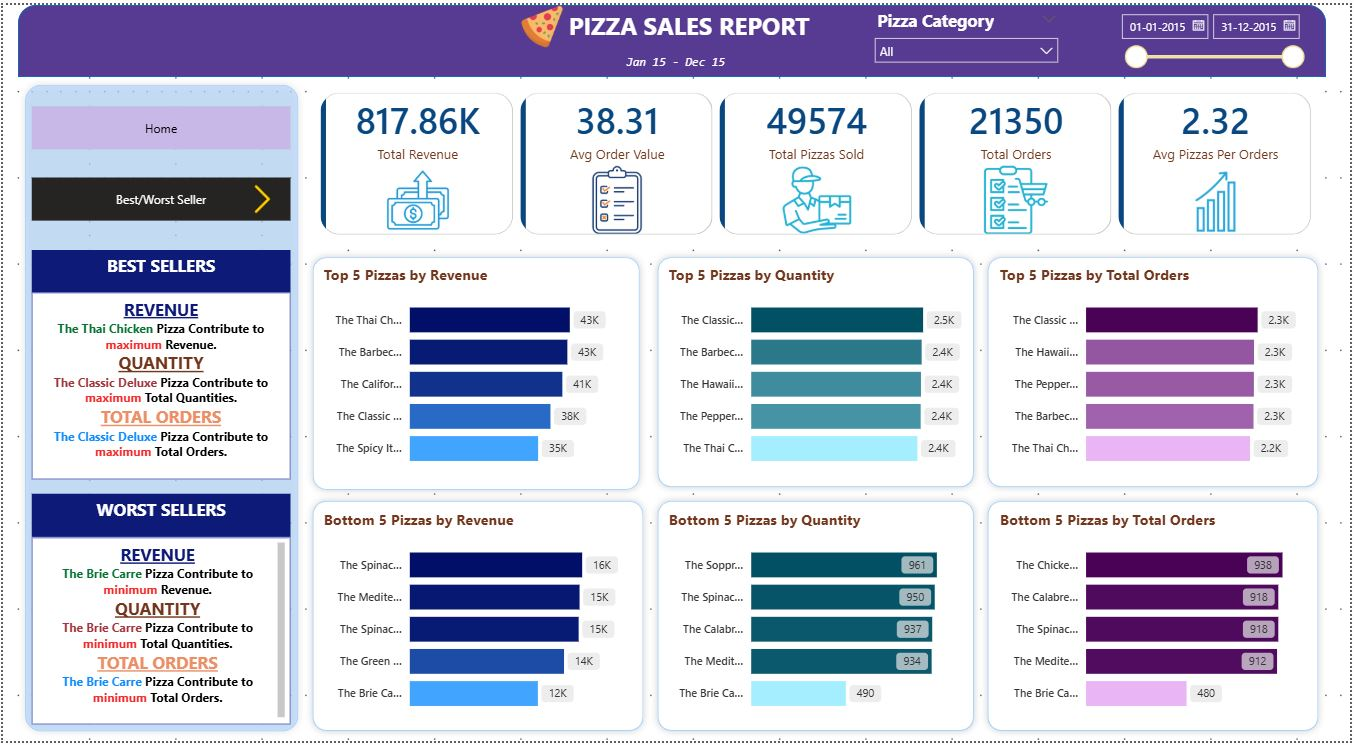

This screenshot's page, from the dashboard's own definition file:
{"tool":"powerbi","page":{"name":"Best/Worst Seller","canvas":[1500,820],"ordinal":1},"visuals":[{"type":"cardVisual","fields":{"Data":["pizza_sales.Total Revenue","pizza_sales.Avg Order Value","pizza_sales.Total Pizzas Sold","pizza_sales.Total Orders","pizza_sales.Avg Pizzas Per Orders"]},"box":[336,80,1136,192],"z":0},{"type":"shape","box":[16,0,1456,80],"z":1000},{"type":"textbox","box":[624,0,288,48],"z":2000},{"type":"textbox","box":[688,48,128,32],"z":3000},{"type":"image","box":[576,0,48,48],"z":4000},{"type":"shape","box":[336,272,380,275],"z":5000},{"type":"shape","box":[16,80,320,736],"z":6000},{"type":"textbox","box":[32,272,288,48],"z":7000},{"type":"textbox","box":[32,320,288,208],"z":8000},{"type":"textbox","box":[32,544,288,48],"z":9000},{"type":"textbox","box":[32,592,288,208],"z":10000},{"type":"slicer","fields":{"Values":["pizza_sales.pizza_category"]},"box":[960,0,224,64],"z":11000},{"type":"slicer","fields":{"Values":["pizza_sales.order_date"]},"box":[1232,0,224,80],"z":12000},{"type":"shape","box":[720,272,368,272],"z":13000},{"type":"shape","box":[1088,272,384,272],"z":14000},{"type":"shape","box":[336,544,384,272],"z":15000},{"type":"shape","box":[720,544,368,272],"z":16000},{"type":"shape","box":[1088,544,384,272],"z":17000},{"type":"barChart","title":"Top 5 Pizzas by Revenue","fields":{"Category":["pizza_sales.pizza_name"],"Y":["pizza_sales.Total Revenue"]},"box":[352,288,352,240],"z":18000},{"type":"barChart","title":"Bottom 5 Pizzas by Revenue","fields":{"Category":["pizza_sales.pizza_name"],"Y":["pizza_sales.Total Revenue"]},"box":[352,560,352,240],"z":19000},{"type":"barChart","title":"Top 5 Pizzas by Quantity","fields":{"Category":["pizza_sales.pizza_name"],"Y":["pizza_sales.Total Pizzas Sold"]},"box":[736,288,336,240],"z":20000},{"type":"barChart","title":"Bottom 5 Pizzas by Quantity","fields":{"Category":["pizza_sales.pizza_name"],"Y":["pizza_sales.Total Pizzas Sold"]},"box":[736,560,336,240],"z":21000},{"type":"barChart","title":"Top 5 Pizzas by Total Orders","fields":{"Category":["pizza_sales.pizza_name"],"Y":["pizza_sales.Total Orders"]},"box":[1104,288,352,240],"z":22000},{"type":"barChart","title":"Bottom 5 Pizzas by Total Orders","fields":{"Category":["pizza_sales.pizza_name"],"Y":["pizza_sales.Total Orders"]},"box":[1104,560,352,240],"z":23000},{"type":"pageNavigator","box":[32,192,288,48],"z":24000},{"type":"pageNavigator","box":[32,112,288,48],"z":25000},{"type":"image","box":[272,192,32,48],"z":26000}]}

Visuals, with their boxes in screenshot pixels (x1, y1, x2, y2), scaled from the page's 1500x820 canvas onto the 1354x745 screenshot:
cardVisual - pizza_sales.Total Revenue x pizza_sales.Avg Order Value: rect(303, 73, 1329, 247)
shape: rect(14, 0, 1329, 73)
textbox: rect(563, 0, 823, 44)
textbox: rect(621, 44, 737, 73)
image: rect(520, 0, 563, 44)
shape: rect(303, 247, 646, 497)
shape: rect(14, 73, 303, 741)
textbox: rect(29, 247, 289, 291)
textbox: rect(29, 291, 289, 480)
textbox: rect(29, 494, 289, 538)
textbox: rect(29, 538, 289, 727)
slicer - pizza_sales.pizza_category: rect(867, 0, 1069, 58)
slicer - pizza_sales.order_date: rect(1112, 0, 1314, 73)
shape: rect(650, 247, 982, 494)
shape: rect(982, 247, 1329, 494)
shape: rect(303, 494, 650, 741)
shape: rect(650, 494, 982, 741)
shape: rect(982, 494, 1329, 741)
"Top 5 Pizzas by Revenue" barChart: rect(318, 262, 635, 480)
"Bottom 5 Pizzas by Revenue" barChart: rect(318, 509, 635, 727)
"Top 5 Pizzas by Quantity" barChart: rect(664, 262, 968, 480)
"Bottom 5 Pizzas by Quantity" barChart: rect(664, 509, 968, 727)
"Top 5 Pizzas by Total Orders" barChart: rect(997, 262, 1314, 480)
"Bottom 5 Pizzas by Total Orders" barChart: rect(997, 509, 1314, 727)
pageNavigator: rect(29, 174, 289, 218)
pageNavigator: rect(29, 102, 289, 145)
image: rect(246, 174, 274, 218)
